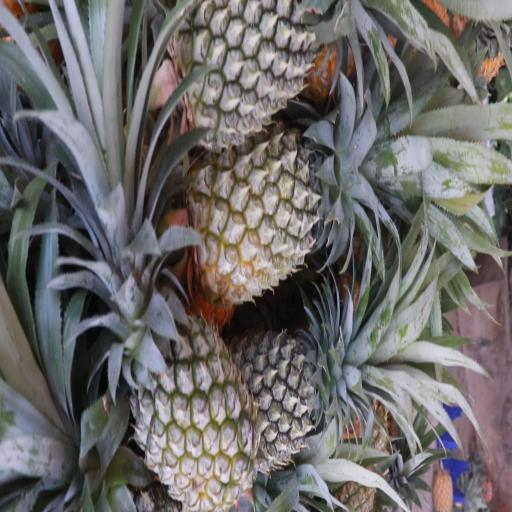------------------------------: (190, 135, 340, 295), (130, 317, 254, 507)
